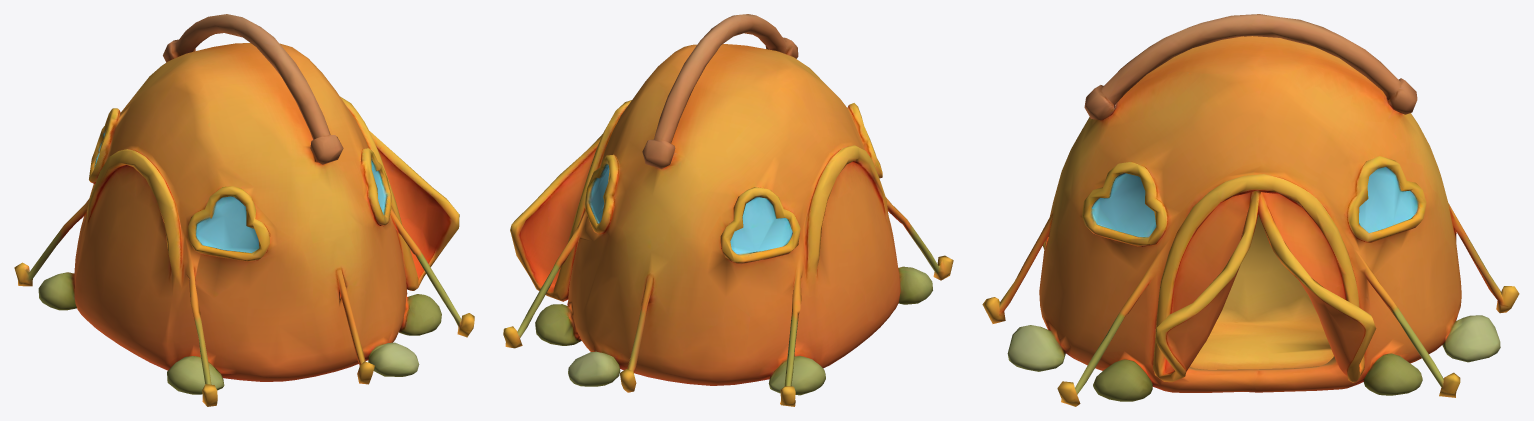
The model's file is tent.glb.
3 views of the same model, side by side, from view 1: azimuth 30°, elevation 25°; view 2: azimuth 150°, elevation 25°; view 3: azimuth 270°, elevation 25° (orthographic). The views are drawn at different scales.
Parts seen in each view (by area): view 1: tripo_node_8108b08f-d6b4-4fb1-87e2-31360a733ad4; view 2: tripo_node_8108b08f-d6b4-4fb1-87e2-31360a733ad4; view 3: tripo_node_8108b08f-d6b4-4fb1-87e2-31360a733ad4.
Boxes of the visible parts, left/top/right/bottom form: tripo_node_8108b08f-d6b4-4fb1-87e2-31360a733ad4: left=14, top=14, right=474, bottom=406; tripo_node_8108b08f-d6b4-4fb1-87e2-31360a733ad4: left=503, top=14, right=953, bottom=406; tripo_node_8108b08f-d6b4-4fb1-87e2-31360a733ad4: left=982, top=14, right=1519, bottom=406.
Size of the model in its own units: 0.5884 by 0.5 by 0.7575.
Materials: 1 (1 with a texture image).
